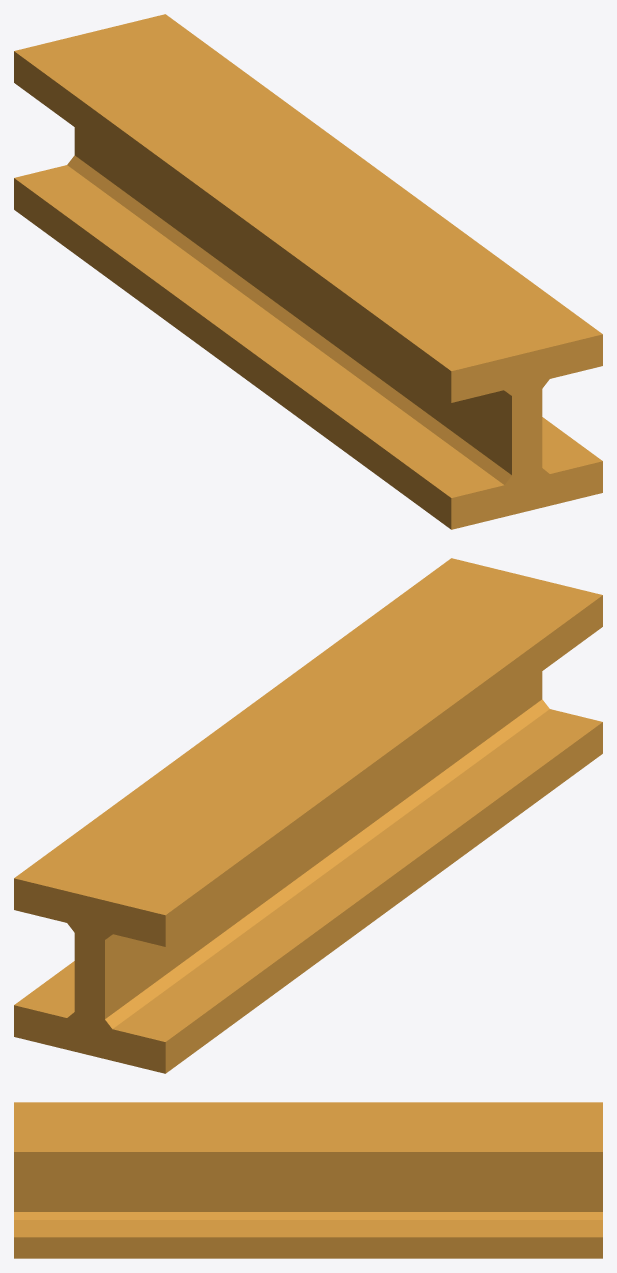
File: steel-beam.fbx
The picture shows the model from 3 angles, top to bottom: view 1: azimuth 30°, elevation 25°; view 2: azimuth 150°, elevation 25°; view 3: azimuth 270°, elevation 25°; orthographic projection. The views are drawn at different scales.
Parts seen in each view (by area): view 1: steel-beam; view 2: steel-beam; view 3: steel-beam.
Boxes of the visible parts, <box> form: steel-beam: <box>14,14,602,529</box>; steel-beam: <box>14,558,602,1073</box>; steel-beam: <box>14,1102,602,1258</box>.
Size of the model in its own units: 0.2 by 0.2 by 1.
